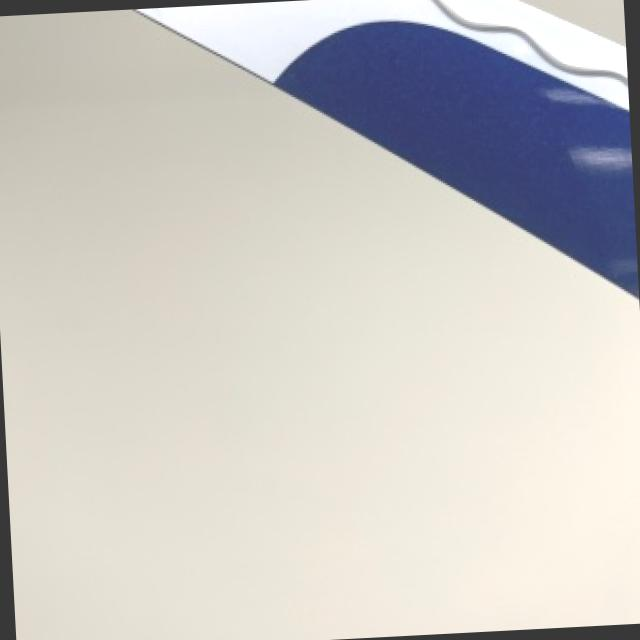healthy: (137, 0, 637, 295)
